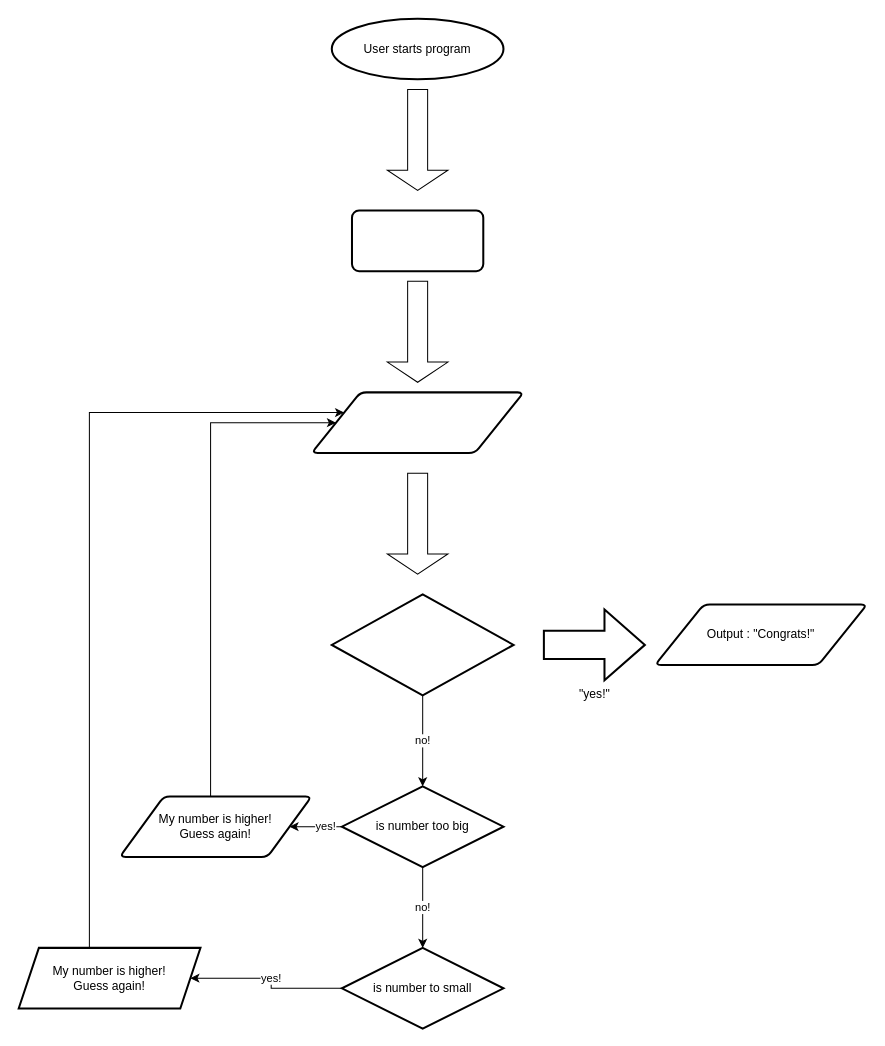
Some shapes in this 885 by 1046 pixel diagram are drawn without their labels. Here are the shapes that lost their labels. From the top down, the centre of each, then its label:
At point 417,240: "choose number 1-N".
At point 417,422: "Input Number".
At point 422,644: "is number correct".
